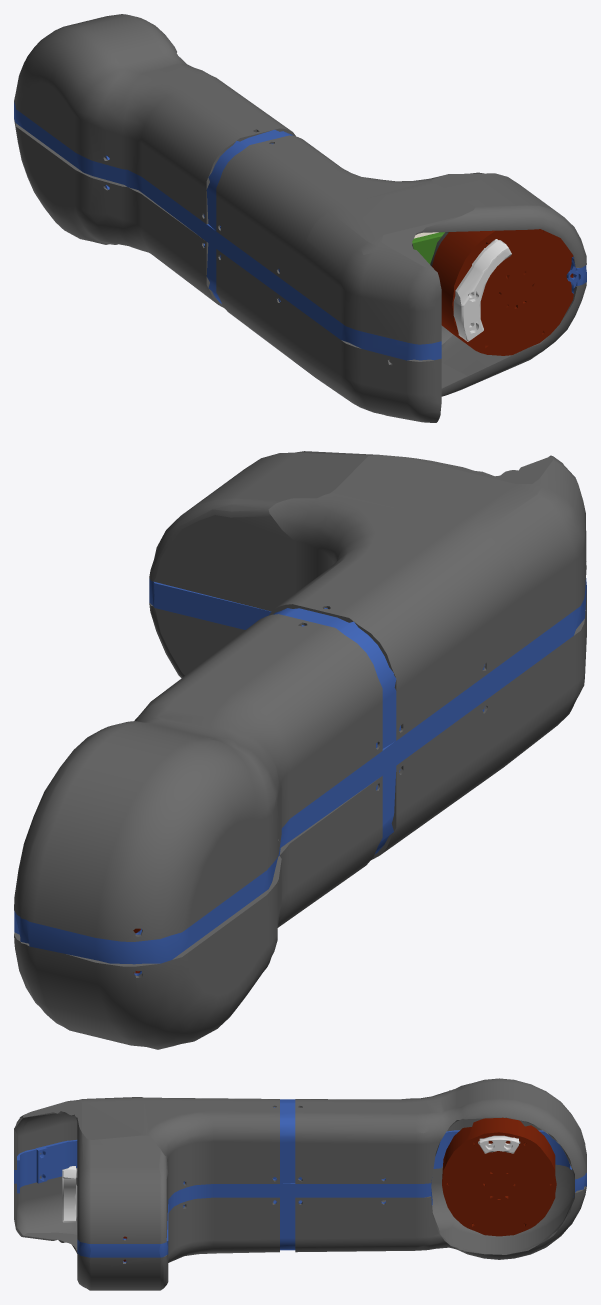
File: right_wrist_yaw.obj
The picture shows the model from 3 angles, top to bottom: view 1: azimuth 30°, elevation 25°; view 2: azimuth 150°, elevation 25°; view 3: azimuth 270°, elevation 25°; orthographic projection. The views are drawn at different scales.
Parts seen in each view (by area): view 1: Shell_Right, Shell_Left, AK60_6, Back_Seam, N16_23_P05_06_Endstop_Forearm_A, Seam_Left, GIMU_P04_01_IMU_Housing_Base_Thru_Hole; view 2: Shell_Right, Shell_Left, Back_Seam, Front_Seam, Seam_Left, Seam_Right; view 3: Shell_Right, Shell_Left, AK60_6, Front_Seam, Back_Seam, Seam_Left, Seam_Right, N16_23_P05_06_Endstop_Forearm_A, N16_23_P05_05_Endstop_Wrist.
Part boxes in pixels (left/top/right/bottom): Shell_Right: left=14, top=14, right=586, bottom=344; Shell_Left: left=14, top=119, right=586, bottom=422; AK60_6: left=432, top=229, right=573, bottom=355; Back_Seam: left=14, top=102, right=441, bottom=360; N16_23_P05_06_Endstop_Forearm_A: left=453, top=239, right=511, bottom=341; Seam_Left: left=203, top=129, right=293, bottom=230; GIMU_P04_01_IMU_Housing_Base_Thru_Hole: left=412, top=232, right=444, bottom=264; Shell_Right: left=14, top=451, right=586, bottom=941; Shell_Left: left=14, top=589, right=586, bottom=1049; Back_Seam: left=14, top=578, right=586, bottom=975; Front_Seam: left=149, top=578, right=271, bottom=629; Seam_Left: left=273, top=608, right=396, bottom=748; Seam_Right: left=374, top=766, right=396, bottom=854; Shell_Right: left=14, top=1078, right=586, bottom=1243; Shell_Left: left=14, top=1164, right=586, bottom=1290; AK60_6: left=123, top=1117, right=556, bottom=1261; Front_Seam: left=77, top=1177, right=432, bottom=1262; Back_Seam: left=14, top=1130, right=586, bottom=1197; Seam_Left: left=274, top=1099, right=301, bottom=1183; Seam_Right: left=273, top=1177, right=302, bottom=1250; N16_23_P05_06_Endstop_Forearm_A: left=62, top=1166, right=77, bottom=1222; N16_23_P05_05_Endstop_Wrist: left=478, top=1135, right=520, bottom=1153.
Size of the model in its own units: 0.165 by 0.116 by 0.379.
